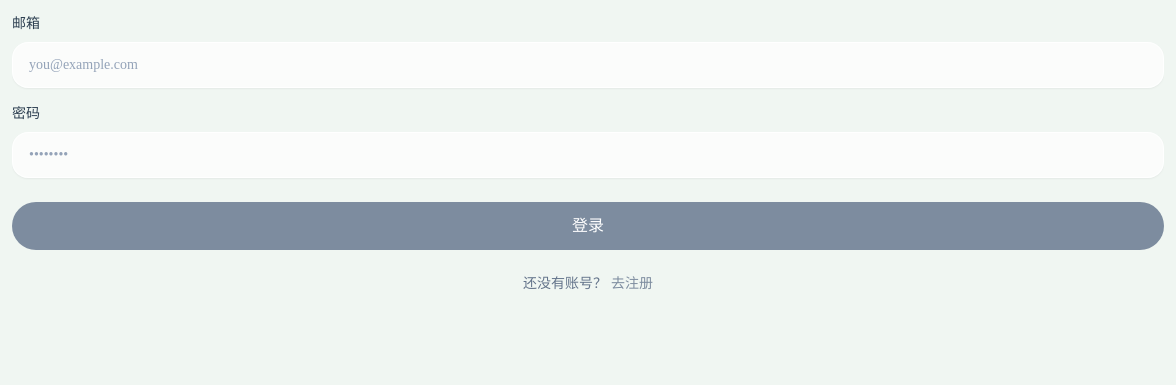
Test: LoginForm › displays sign-in error when sign-in fails
Type "test@example.com" into the field labelled "邮箱" at (588, 65), box [12,42,1164,88]
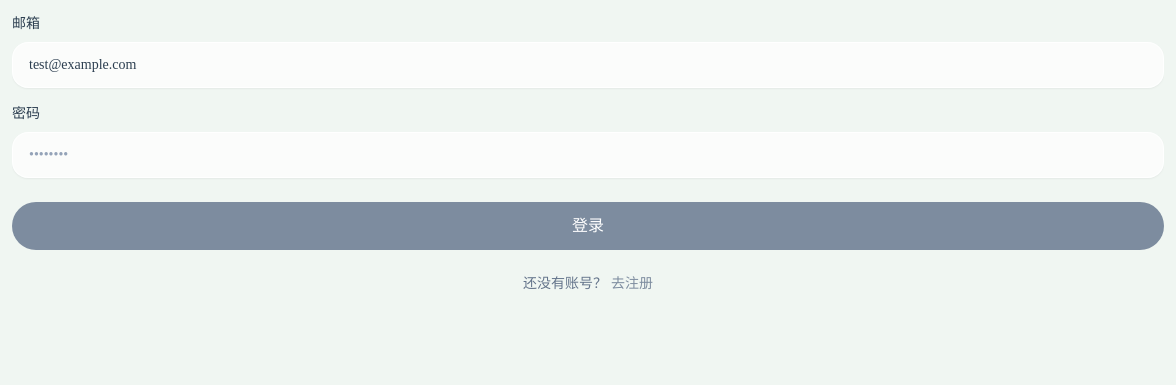
Type "wrongpassword" into the password field labelled "密码" at (588, 155), box [12,132,1164,178]
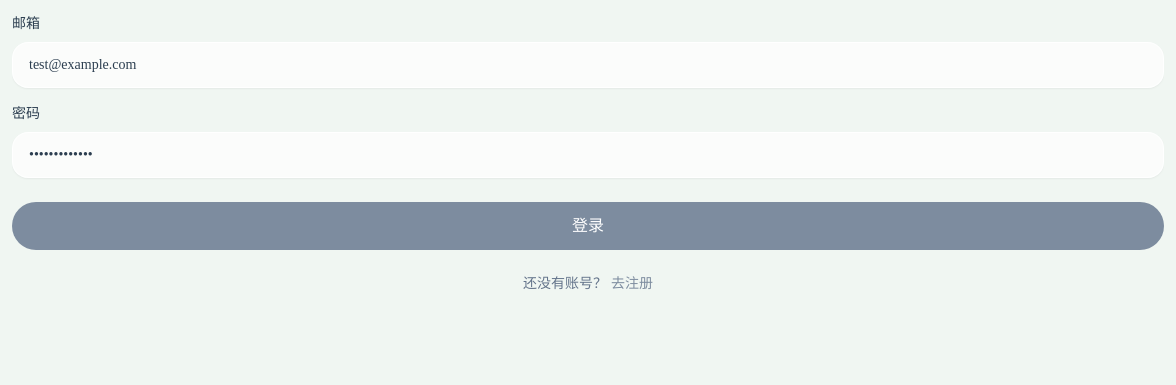
Click the button "登录" at (588, 226), box [12,202,1164,250]
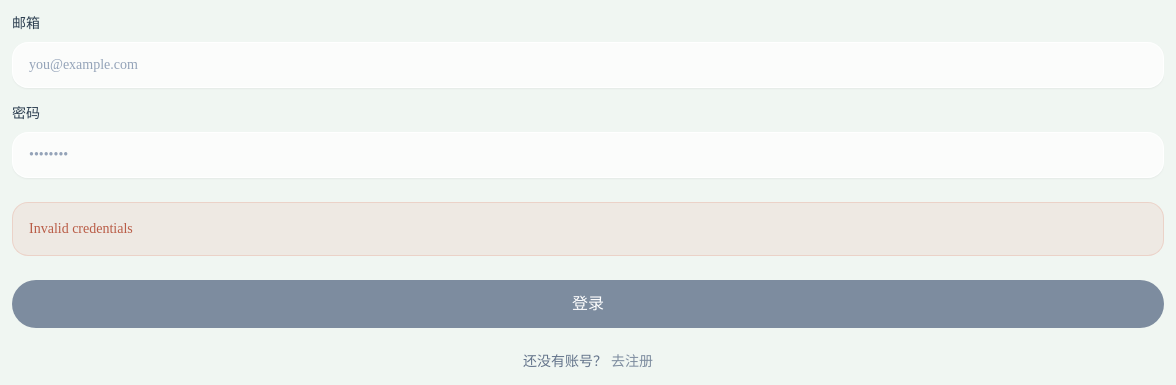
Expected: the text "Invalid credentials" is shown, [29,221,133,236]
